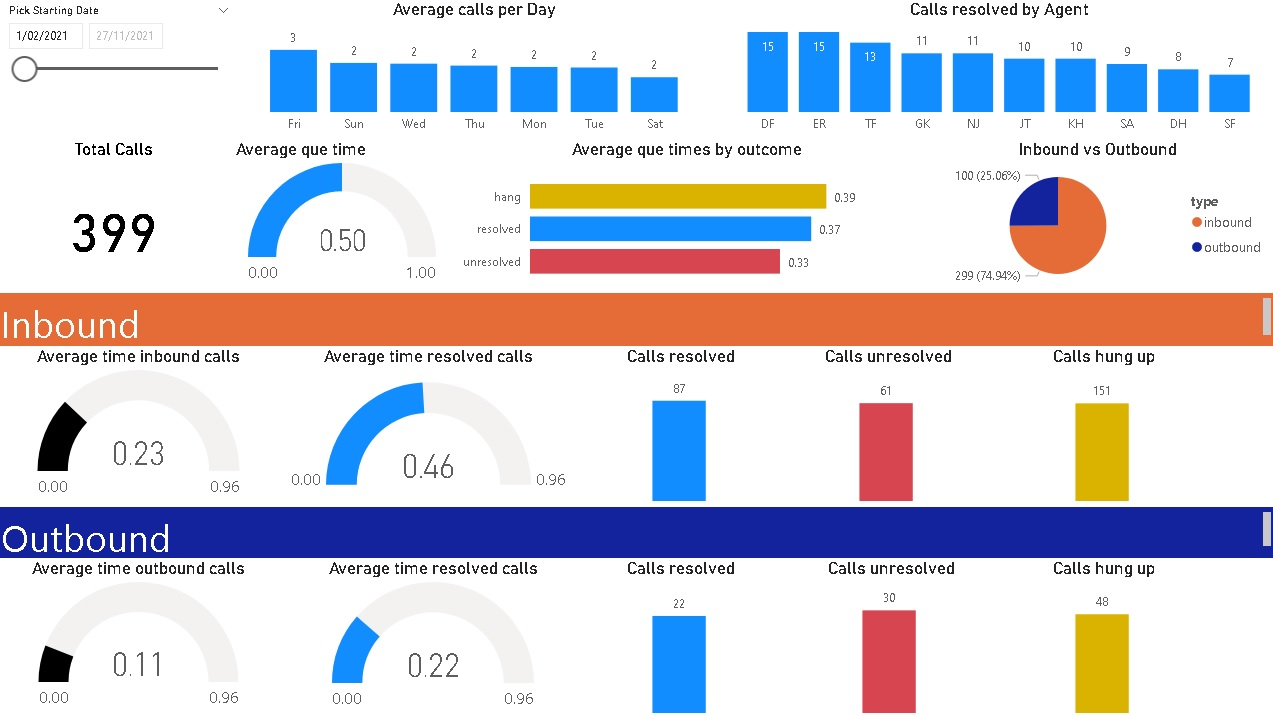

This screenshot's page, from the dashboard's own definition file:
{"tool":"powerbi","page":{"name":"Page 1","canvas":[1280,720],"ordinal":0},"visuals":[{"type":"pieChart","title":"Inbound vs Outbound","fields":{"Category":["Sheet1.callType"],"Y":["Sheet1.callType"]},"box":[924,139.9,356,154.3],"z":0},{"type":"clusteredBarChart","title":"Average que times by outcome","fields":{"Y":["Sheet1.quetime"],"Category":["Sheet1.outcome"]},"box":[456.8,139.9,467.1,154.3],"z":1000},{"type":"textbox","box":[0,294.3,1280,52.5],"z":3000},{"type":"textbox","box":[0,508.3,1280,50.4],"z":4000},{"type":"gauge","title":"Average time inbound calls","fields":{"Y":["Sheet1.Average of callTime for inbound"],"MaxValue":["Sum(Sheet1.callTime)1"]},"box":[0,346.8,285,161.5],"z":5000},{"type":"gauge","title":"Average time outbound calls","fields":{"Y":["Sheet1.Average of callTime for outbound"],"MaxValue":["Sum(Sheet1.callTime)1"]},"box":[0,558.7,285,160.5],"z":6000},{"type":"gauge","title":"Average time resolved calls","fields":{"Y":["Sheet1.Average of callTime for resolved for inbound"],"MaxValue":["Sheet1.callTime"]},"box":[285,346.8,295.3,161.5],"z":7000},{"type":"gauge","title":"Average time resolved calls","fields":{"Y":["Sheet1.Average of callTime for resolved for outbound"],"MaxValue":["Sheet1.callTime"]},"box":[294.3,558.7,286,161.5],"z":8000},{"type":"clusteredColumnChart","title":"Calls resolved","fields":{"Y":["Sheet1.ID for resolved for inbound"]},"box":[580.3,346.8,210,161.5],"z":9000},{"type":"clusteredColumnChart","title":"Calls resolved","fields":{"Y":["Sheet1.ID for resolved for outbound"]},"box":[580.3,558.7,210,161.5],"z":10000},{"type":"clusteredColumnChart","title":"Average calls per Day","fields":{"Y":["Sheet1.ID average per Day"],"Category":["Sheet1.Weekday"]},"box":[244.9,0,467.1,142],"z":11000},{"type":"card","title":"Total Calls","fields":{"Values":["Sheet1.ID"]},"box":[0,139.9,234.6,154.3],"z":12000},{"type":"gauge","title":"Average que time","fields":{"Y":["Sheet1.Average of quetime for inbound"]},"box":[234.6,139.9,222.3,154.3],"z":13000},{"type":"clusteredColumnChart","title":"Calls unresolved","fields":{"Y":["Sheet1.ID for unresolved for inbound"]},"box":[787.1,346.8,210,161.5],"z":14000},{"type":"clusteredColumnChart","title":"Calls unresolved","fields":{"Y":["Sheet1.ID for unresolved for outbound"]},"box":[790.2,558.7,209.9,161.5],"z":15000},{"type":"clusteredColumnChart","title":"Calls hung up","fields":{"Y":["Sheet1.ID for hang for inbound"]},"box":[1003.2,346.8,209.9,161.5],"z":16000},{"type":"clusteredColumnChart","title":"Calls hung up","fields":{"Y":["Sheet1.ID for hang for outbound"]},"box":[1003.2,558.7,209.9,161.5],"z":17000},{"type":"columnChart","title":"Calls resolved by Agent","fields":{"Category":["Sheet1.Agent"],"Y":["Sheet1.ID for resolved"]},"box":[726.4,0,553.6,142],"z":18000},{"type":"slicer","fields":{"Values":["Sheet1.callStartTime"]},"box":[0,0,244.9,110.1],"z":18001}]}

Visuals, with their boxes in screenshot pixels (x1, y1, x2, y2), scaled from the page's 1280x720 canvas onto the 1273x715 screenshot:
"Inbound vs Outbound" pieChart: (left=919, top=139, right=1272, bottom=292)
"Average que times by outcome" clusteredBarChart: (left=454, top=139, right=919, bottom=292)
textbox: (left=0, top=292, right=1272, bottom=344)
textbox: (left=0, top=505, right=1272, bottom=555)
"Average time inbound calls" gauge: (left=0, top=344, right=283, bottom=505)
"Average time outbound calls" gauge: (left=0, top=555, right=283, bottom=714)
"Average time resolved calls" gauge: (left=283, top=344, right=577, bottom=505)
"Average time resolved calls" gauge: (left=293, top=555, right=577, bottom=714)
"Calls resolved" clusteredColumnChart: (left=577, top=344, right=786, bottom=505)
"Calls resolved" clusteredColumnChart: (left=577, top=555, right=786, bottom=714)
"Average calls per Day" clusteredColumnChart: (left=244, top=0, right=708, bottom=141)
"Total Calls" card: (left=0, top=139, right=233, bottom=292)
"Average que time" gauge: (left=233, top=139, right=454, bottom=292)
"Calls unresolved" clusteredColumnChart: (left=783, top=344, right=992, bottom=505)
"Calls unresolved" clusteredColumnChart: (left=786, top=555, right=995, bottom=714)
"Calls hung up" clusteredColumnChart: (left=998, top=344, right=1206, bottom=505)
"Calls hung up" clusteredColumnChart: (left=998, top=555, right=1206, bottom=714)
"Calls resolved by Agent" columnChart: (left=722, top=0, right=1272, bottom=141)
slicer - Sheet1.callStartTime: (left=0, top=0, right=244, bottom=109)
